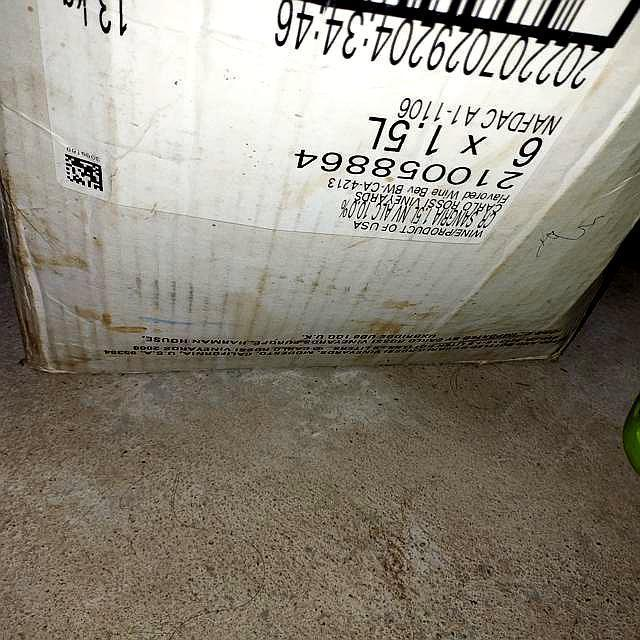Biodegradable: (1, 1, 640, 365)
